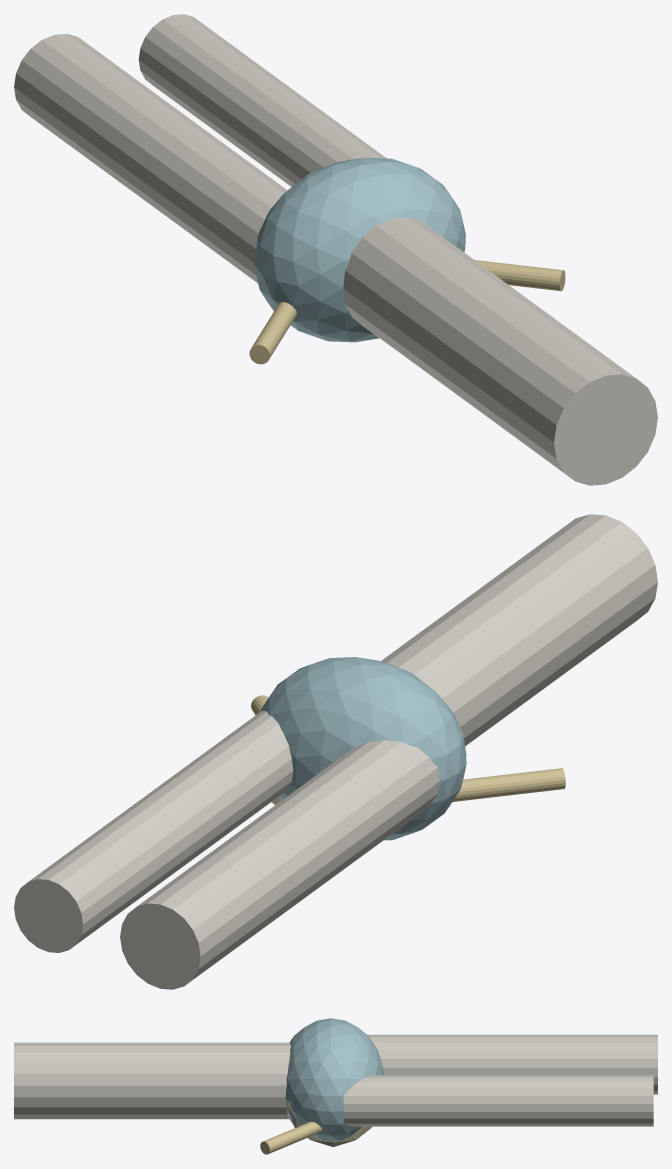
Rendered from elbow-medium.glb.
3 renders of one model, top to bottom at view 1: azimuth 30°, elevation 25°; view 2: azimuth 150°, elevation 25°; view 3: azimuth 270°, elevation 25°, orthographic. The views are drawn at different scales.
Visible parts, largest first — view 1: humerus_distal, ulna, elbow_joint_surface, radius, radial_collateral_ligament_proxy, ulnar_collateral_ligament_proxy; view 2: ulna, humerus_distal, radius, elbow_joint_surface, ulnar_collateral_ligament_proxy; view 3: humerus_distal, radius, ulna, elbow_joint_surface, radial_collateral_ligament_proxy, annular_ligament_proxy.
Part boxes in pixels (<box>): humerus_distal: <box>343,217,657,485</box>; ulna: <box>14,34,287,283</box>; elbow_joint_surface: <box>254,157,465,342</box>; radius: <box>138,14,386,186</box>; radial_collateral_ligament_proxy: <box>475,260,565,291</box>; ulnar_collateral_ligament_proxy: <box>249,302,296,364</box>; ulna: <box>120,739,439,989</box>; humerus_distal: <box>381,514,657,746</box>; radius: <box>14,710,293,952</box>; elbow_joint_surface: <box>260,657,466,840</box>; ulnar_collateral_ligament_proxy: <box>452,768,565,801</box>; humerus_distal: <box>14,1042,290,1119</box>; radius: <box>344,1075,653,1126</box>; ulna: <box>367,1034,657,1094</box>; elbow_joint_surface: <box>285,1018,383,1141</box>; radial_collateral_ligament_proxy: <box>260,1122,322,1154</box>; annular_ligament_proxy: <box>288,1099,371,1146</box>.
Bounding box in the file's own units: 1.09 × 0.56 × 3.
